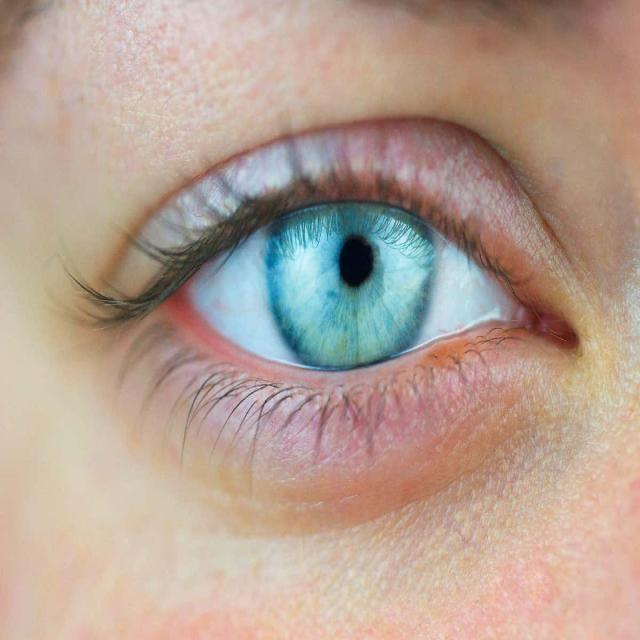Normal: (2, 70, 638, 547)
